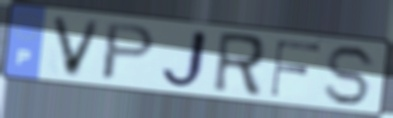F: (267, 38, 324, 99)
J: (157, 27, 212, 92)
P: (97, 21, 159, 83)
R: (209, 30, 267, 100)
S: (323, 43, 380, 108)
V: (48, 13, 105, 80)
